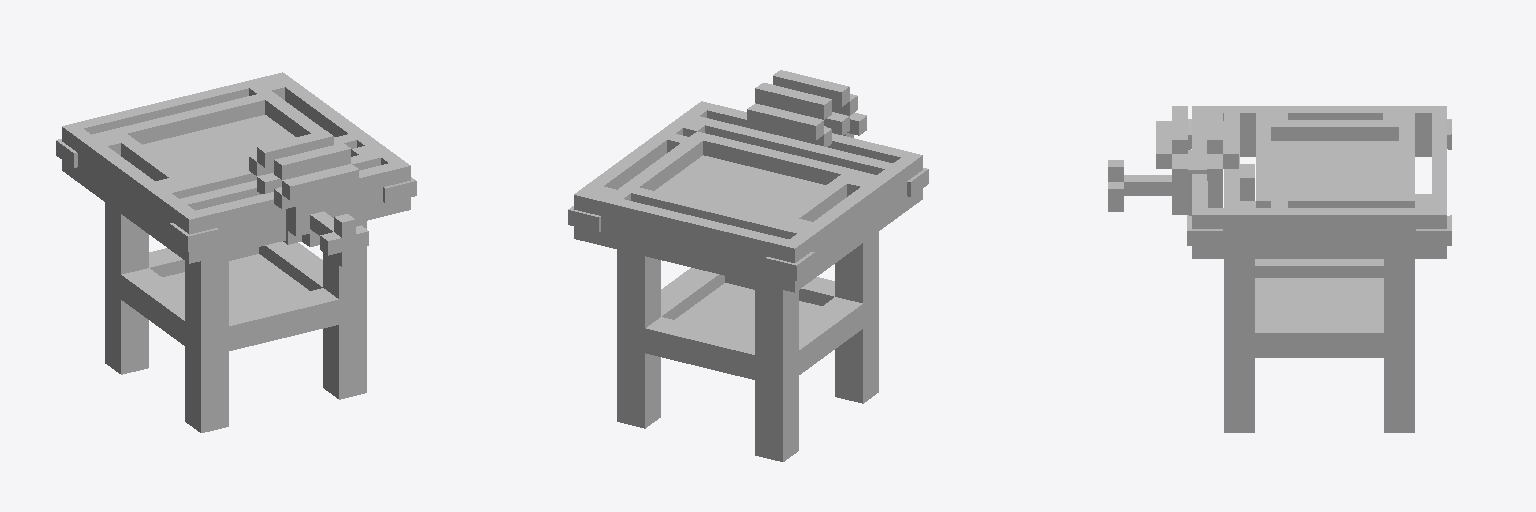
Rendered from augmentation_table.obj.
3 renders of one model, left to right at view 1: azimuth 30°, elevation 25°; view 2: azimuth 150°, elevation 25°; view 3: azimuth 270°, elevation 25°, orthographic.
Parts seen in each view (by area): view 1: augmentation_table; view 2: augmentation_table; view 3: augmentation_table.
Part boxes in pixels (bbox=[...]): augmentation_table: bbox=[56, 72, 416, 432]; augmentation_table: bbox=[568, 70, 928, 461]; augmentation_table: bbox=[1108, 106, 1451, 432].
Bounding box in the file's own units: 0.7648 × 0.8726 × 0.9932.